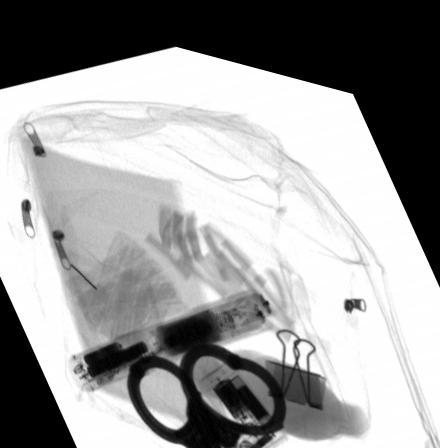Baton: (64, 271, 279, 390)
HandCuffs: (124, 330, 286, 448)
